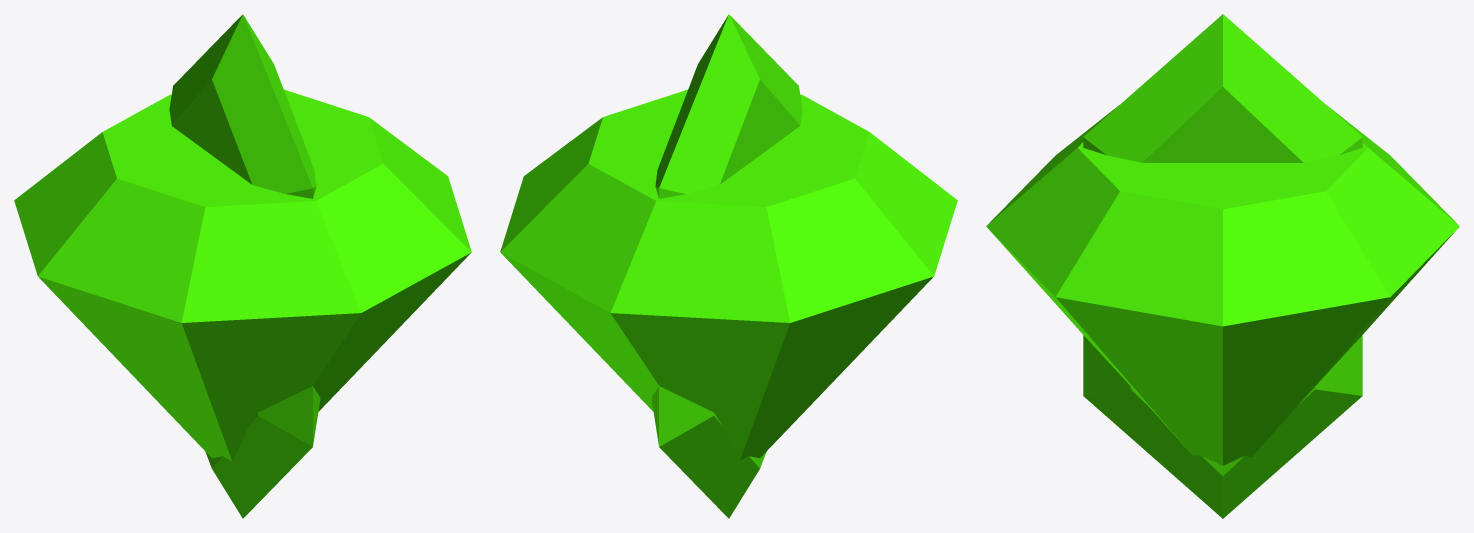
File: CollectiblesSet2.fbx
3 renders of one model, left to right at view 1: azimuth 30°, elevation 25°; view 2: azimuth 150°, elevation 25°; view 3: azimuth 270°, elevation 25°, orthographic.
Visible parts, largest first — view 1: Gem1Green, Gem2Green; view 2: Gem1Green, Gem2Green; view 3: Gem1Green, Gem2Green.
Boxes of the visible parts, x1,y1,x2,y2 form: Gem1Green: [14, 89, 471, 461]; Gem2Green: [169, 14, 320, 518]; Gem1Green: [500, 89, 957, 459]; Gem2Green: [651, 14, 802, 518]; Gem1Green: [986, 105, 1459, 465]; Gem2Green: [1083, 14, 1362, 518].
Size of the model in its own units: 1.67 by 1.96 by 1.67.
